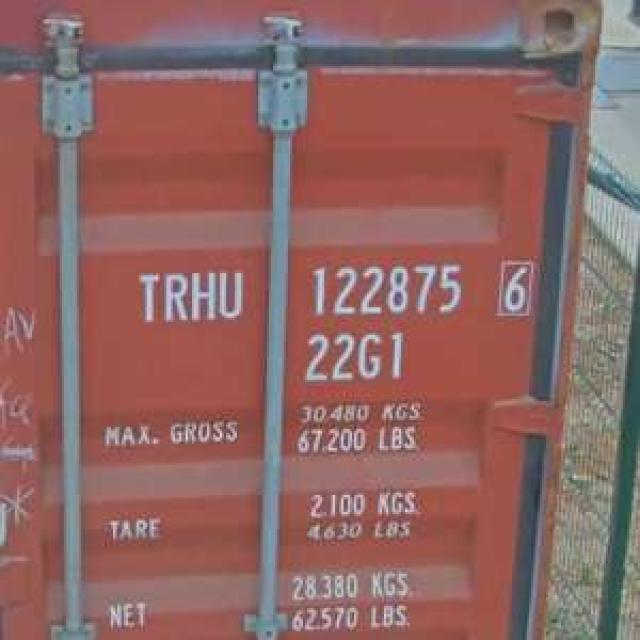dv: (491, 257, 538, 320)
owner: (132, 266, 249, 327)
serial: (298, 260, 467, 320)
size: (298, 327, 412, 388)
